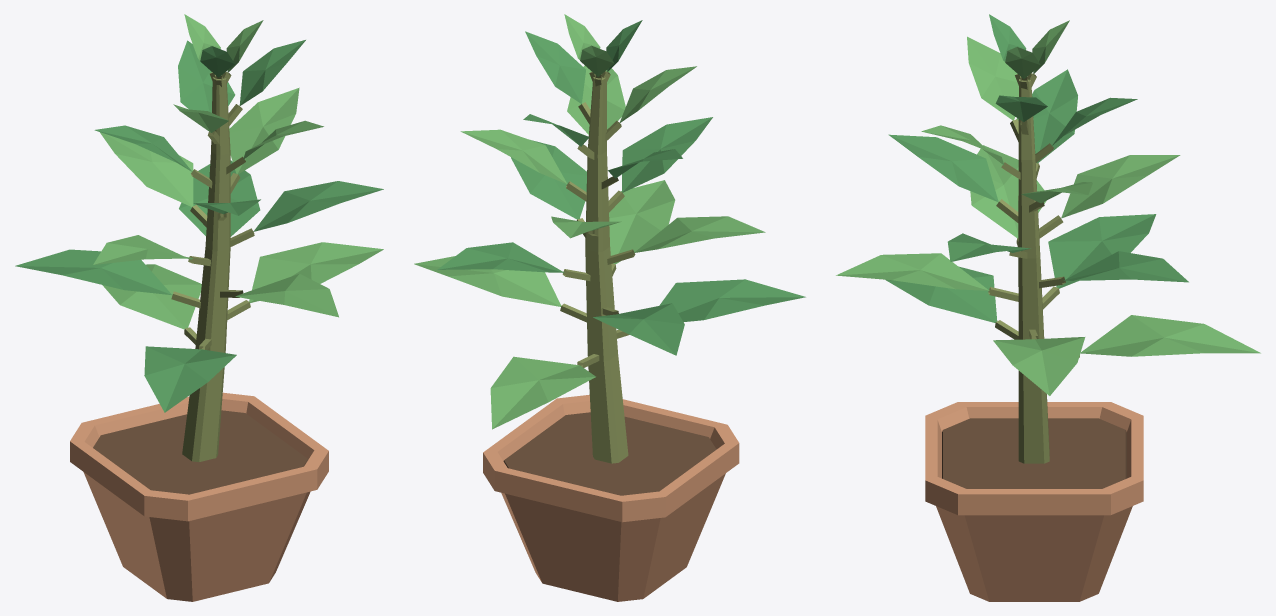
File: Tanaman.fbx
The picture shows the model from 3 angles, left to right: view 1: azimuth 30°, elevation 25°; view 2: azimuth 150°, elevation 25°; view 3: azimuth 270°, elevation 25°; orthographic projection. The views are drawn at different scales.
Parts seen in each view (by area): view 1: Leaves, Pot, Soil, Stem, Petioles; view 2: Leaves, Pot, Soil, Stem, Petioles; view 3: Leaves, Pot, Soil, Stem, Petioles.
Part boxes in pixels (x1,y1,x2,y2): Leaves: [15, 14, 383, 412]; Pot: [70, 392, 328, 601]; Soil: [93, 410, 308, 494]; Stem: [182, 75, 230, 462]; Petioles: [171, 72, 254, 349]; Leaves: [414, 14, 805, 429]; Pot: [483, 394, 739, 601]; Soil: [503, 412, 716, 495]; Stem: [585, 77, 628, 463]; Petioles: [560, 71, 635, 367]; Leaves: [836, 14, 1260, 395]; Pot: [925, 402, 1143, 601]; Soil: [942, 418, 1126, 488]; Stem: [1018, 79, 1049, 463]; Petioles: [988, 73, 1079, 357].
Size of the model in its own units: 62.53 by 100 by 69.47.
